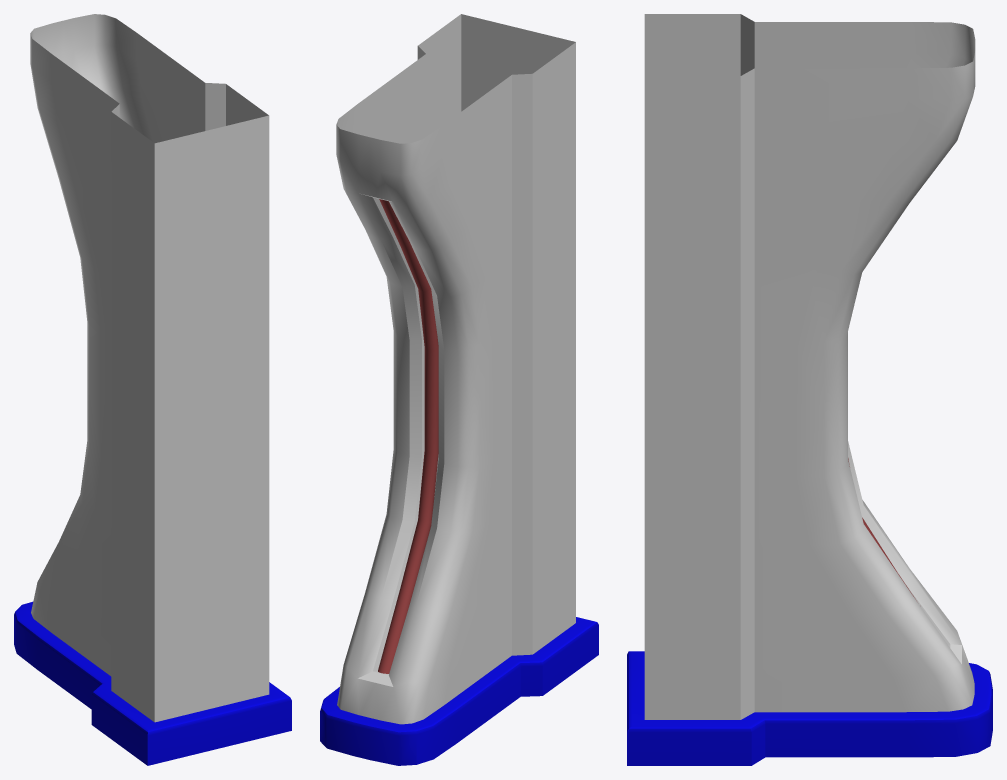
File: DecorativeColumn.fbx
3 renders of one model, left to right at view 1: azimuth 30°, elevation 25°; view 2: azimuth 150°, elevation 25°; view 3: azimuth 270°, elevation 25°, orthographic. The views are drawn at different scales.
Parts seen in each view (by area): view 1: Column, Trim; view 2: Column, Trim, ColumnLight; view 3: Column, Trim.
Boxes of the visible parts, <box> form: Column: <box>30,14,269,722</box>; Trim: <box>14,601,291,765</box>; Column: <box>336,14,575,724</box>; Trim: <box>320,617,598,765</box>; ColumnLight: <box>378,199,438,673</box>; Column: <box>644,14,975,719</box>; Trim: <box>627,651,992,765</box>.
Size of the model in its own units: 2.95 by 12 by 5.83.
